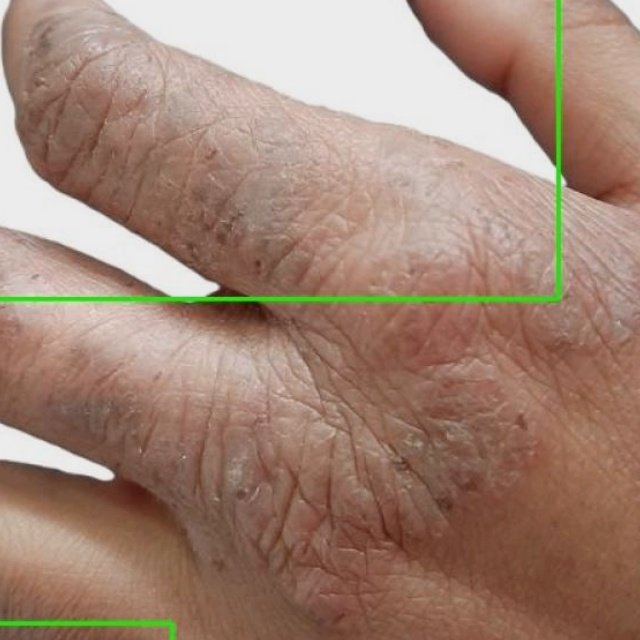Eczema: (0, 0, 558, 298)
